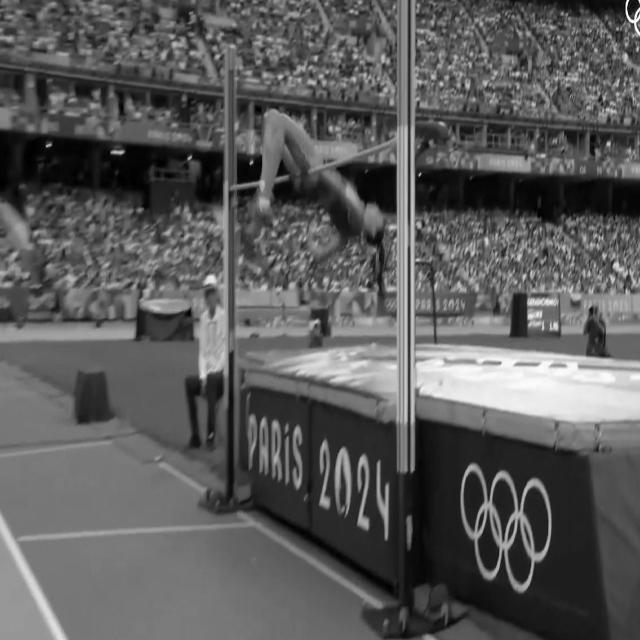jump: (247, 106, 386, 265)
